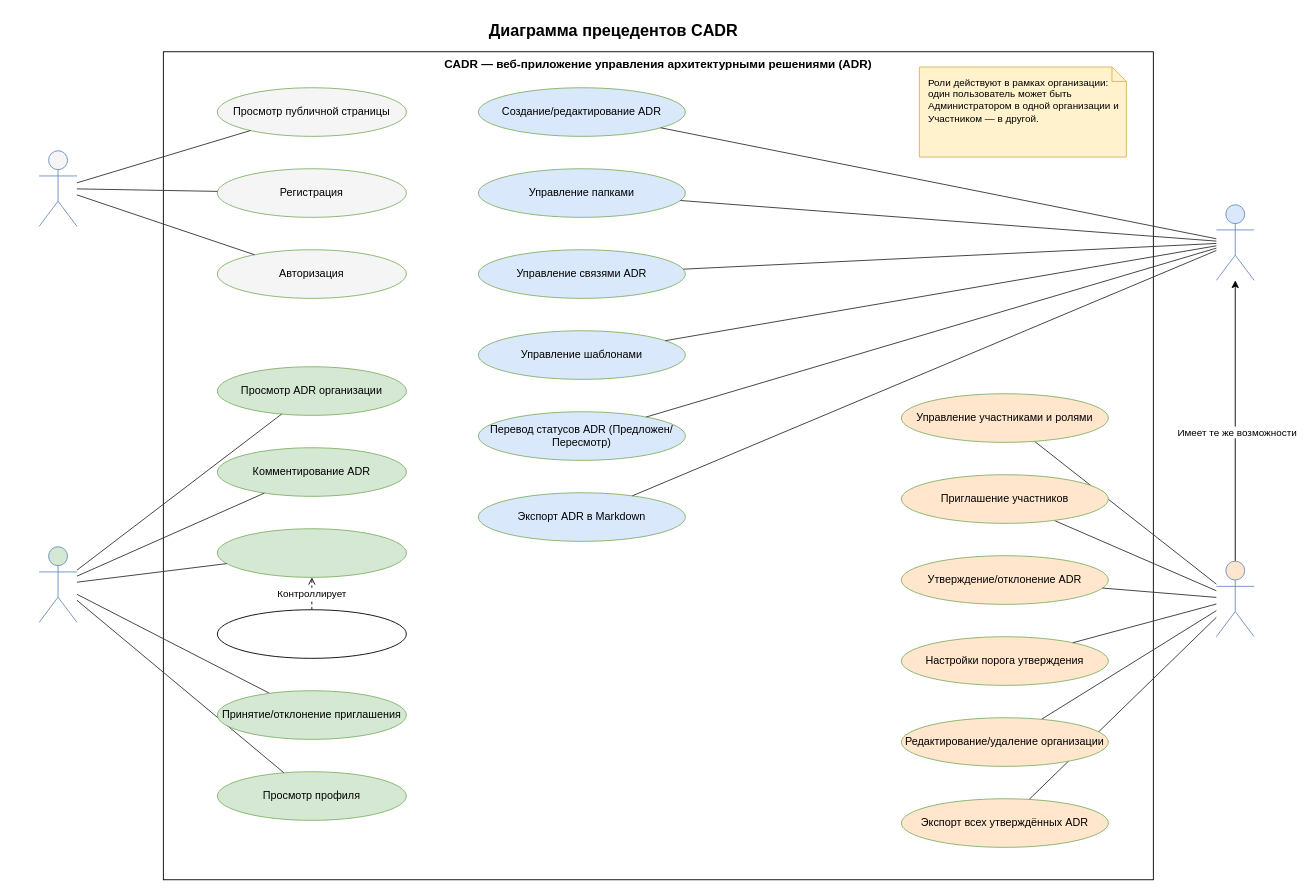
The diagram is 1315 pixels wide and 896 high, and some of its shapes have lost their labels. The shapes that lost their labels are listed below. From the top down, each one's centre as x and y in pixels, then its label:
pixel 57 188: Гость
pixel 1234 242: Архитектор (Architect)
pixel 311 552: Голосование за/против
pixel 57 584: Участник (User)
pixel 1234 598: Администратор (Admin)
pixel 311 633: Автоутверждение по порогу голосов
